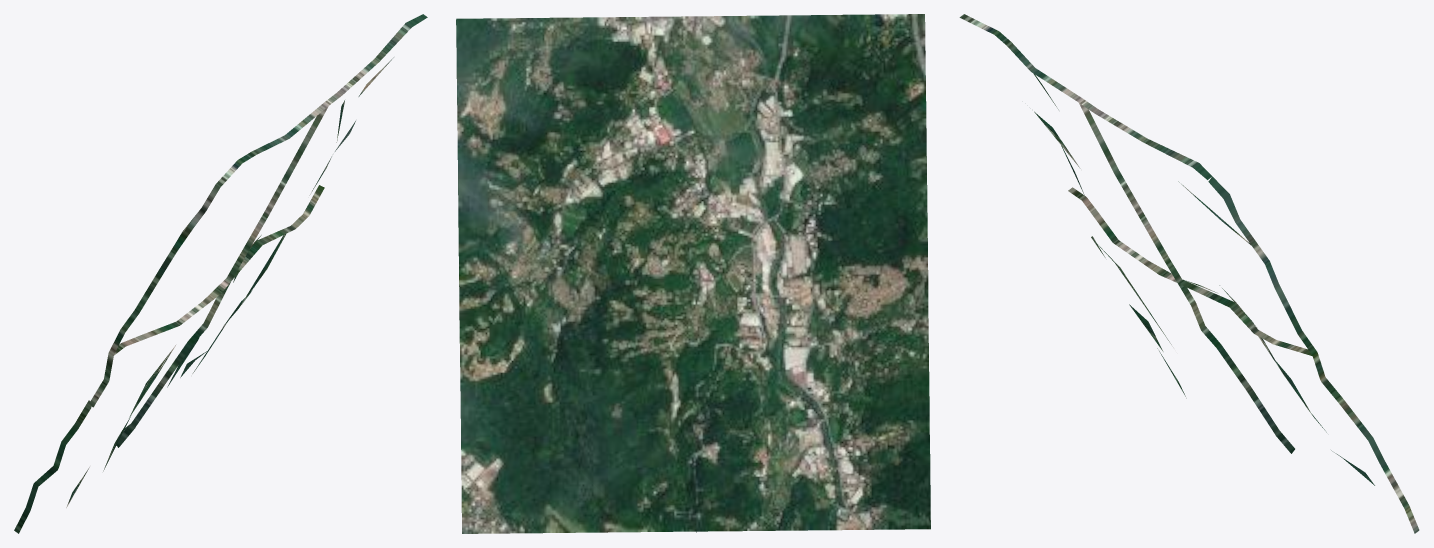
3 views of the same model, side by side, from view 1: azimuth 30°, elevation 25°; view 2: azimuth 150°, elevation 25°; view 3: azimuth 270°, elevation 25° (orthographic). The views are drawn at different scales.
Bounding box in the file's own units: 2483 × 2226 × 2199.
Materials: 1 (1 with a texture image).
